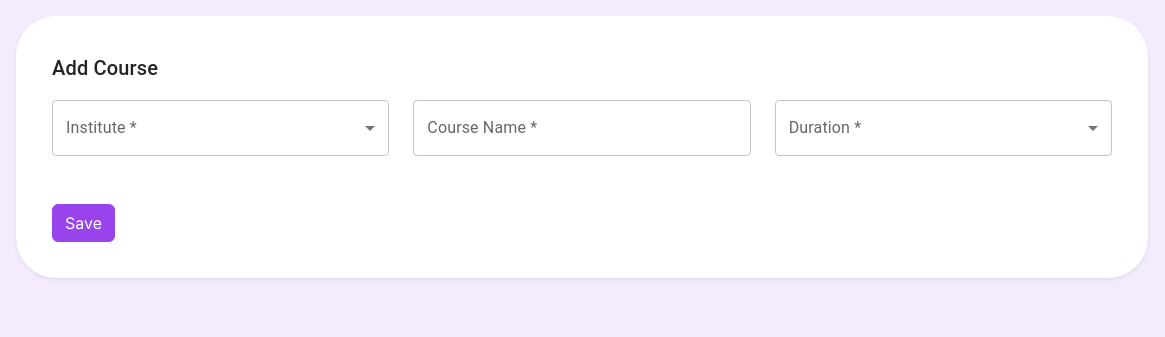
Test case: AddEditCourse Component › displays validation errors if required fields are empty
The image size is (1165, 337).
Click the button with test id "btn-save". click: point(84, 223)
box: [52,204,115,242]
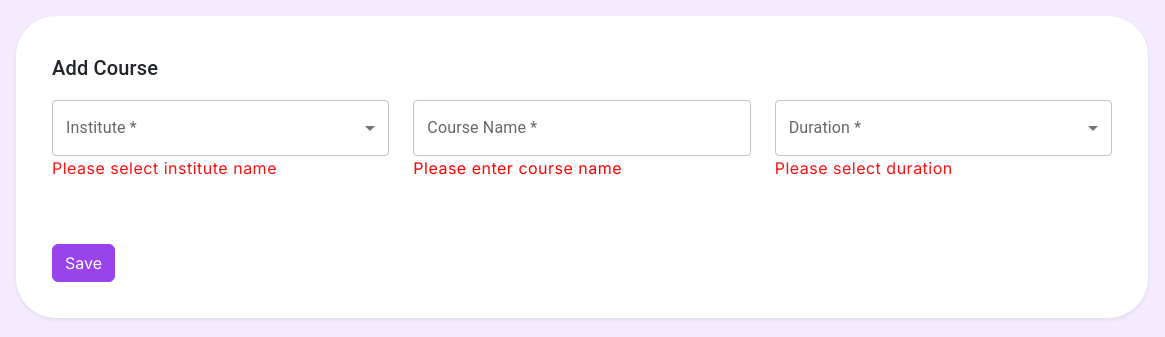
Now the text "Please enter course name" is shown, box [413,158,622,178]
Now the text "Please select institute name" is shown, box [52,158,277,178]
Now the text "Please select duration" is shown, box [775,158,953,178]
